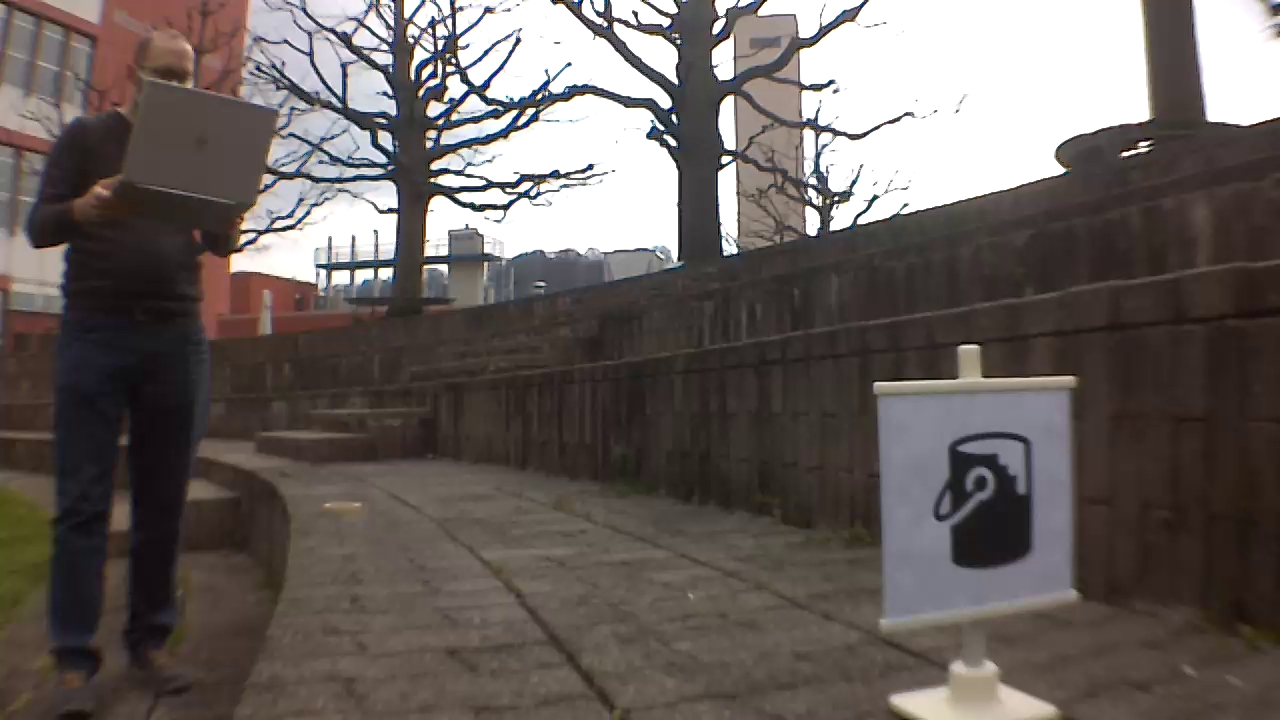bucket: (930, 428, 1048, 565)
